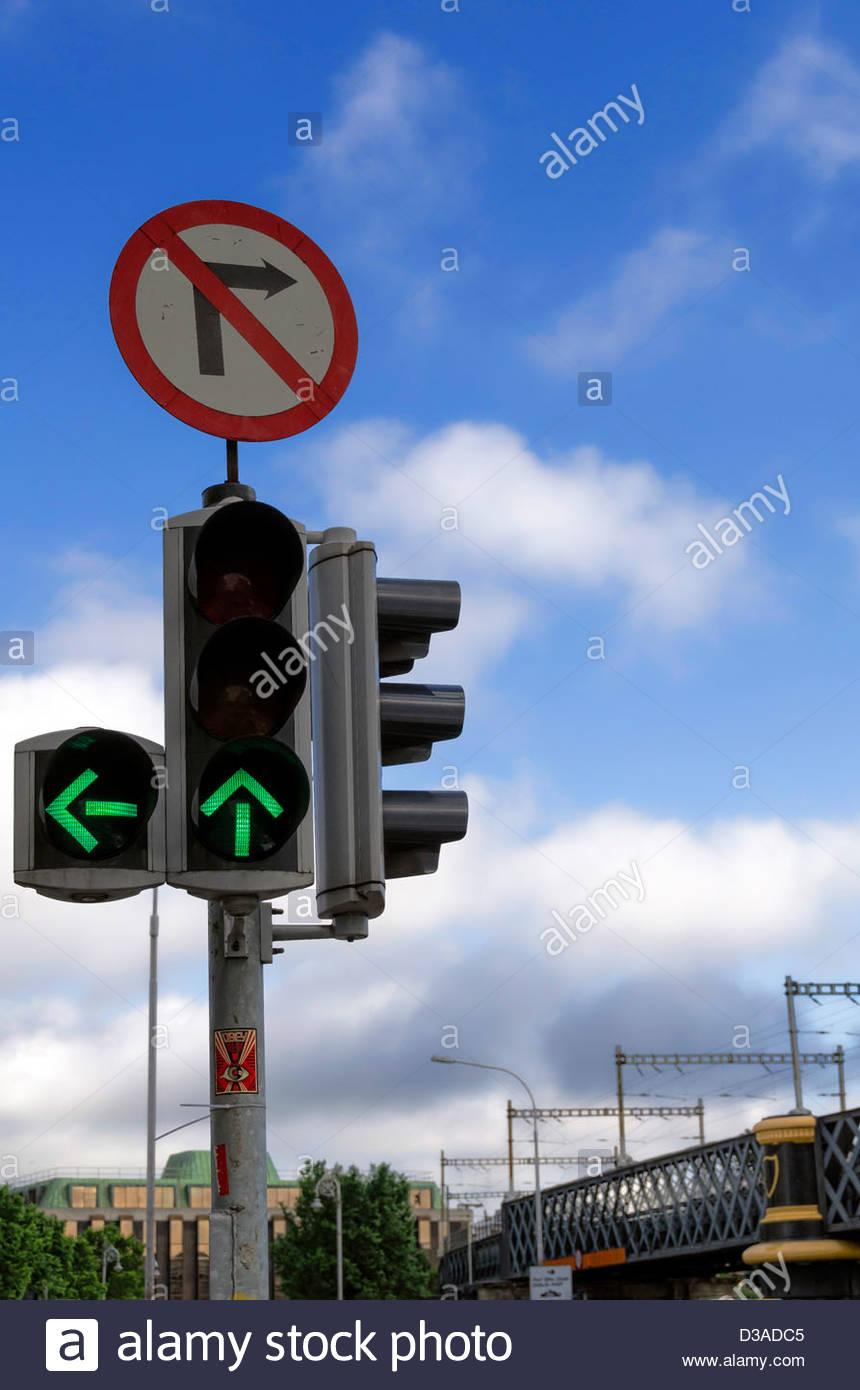no_right_turn: (107, 198, 358, 439)
